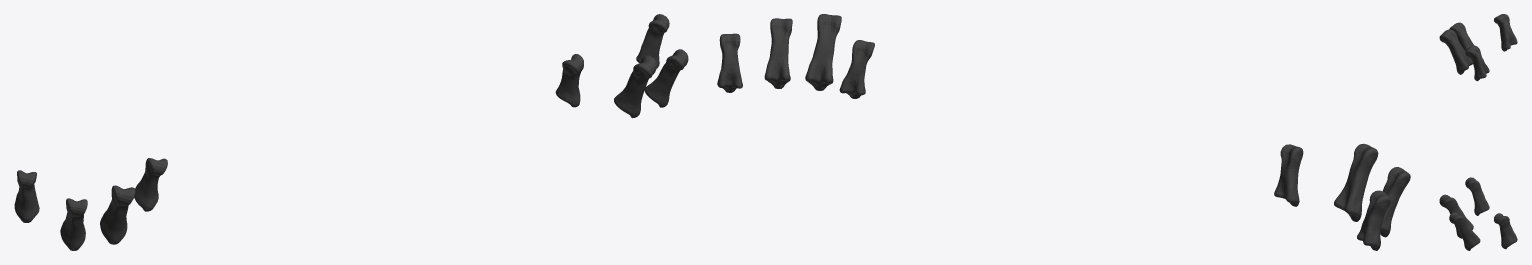
3 views of the same model, side by side, from view 1: azimuth 30°, elevation 25°; view 2: azimuth 150°, elevation 25°; view 3: azimuth 270°, elevation 25° (orthographic). The views are drawn at different scales.
Parts seen in each view (by area): view 1: HL_P2_1; view 2: HL_P2_1; view 3: HL_P2_1.
Boxes of the visible parts, x1,y1,x2,y2 form: HL_P2_1: (14, 14, 688, 250); HL_P2_1: (717, 14, 1410, 250); HL_P2_1: (1439, 14, 1517, 250).
Bounding box in the file's own units: 0.007 × 0.000712 × 0.00113.
1 material, 1 textured.
